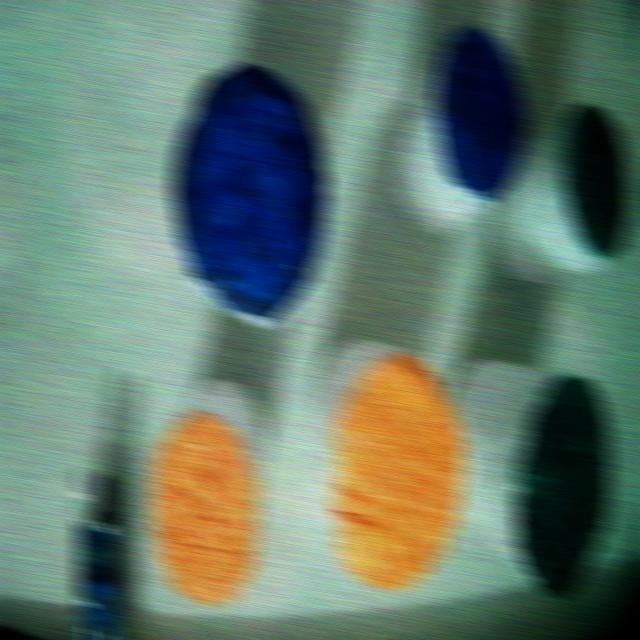blue: (170, 62, 330, 324), (434, 28, 528, 202)
green: (512, 376, 611, 598), (559, 104, 630, 257)
yellow: (328, 352, 466, 587), (149, 403, 261, 604)
